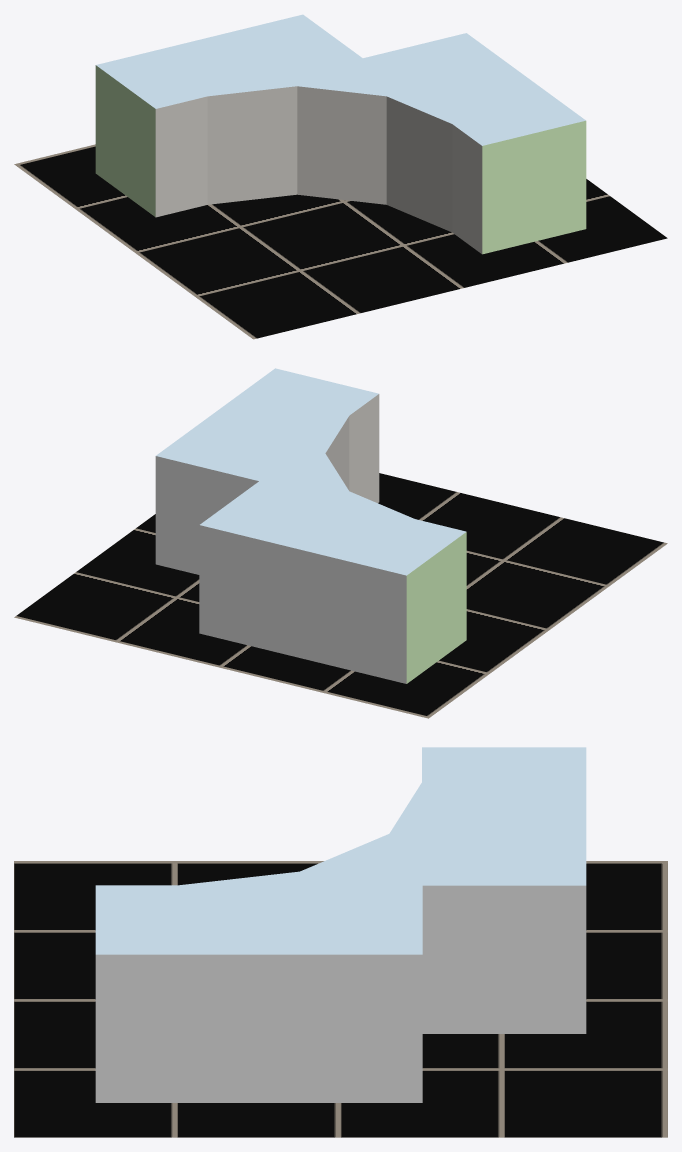
The model's file is Wall_Curve_Inner_3x3_Mid.glb.
3 views of the same model, one above another, from view 1: azimuth 30°, elevation 25°; view 2: azimuth 150°, elevation 25°; view 3: azimuth 270°, elevation 25° (orthographic). The views are drawn at different scales.
Parts seen in each view (by area): view 1: Wall_Curve_Inner_3x3_Mid, Floor; view 2: Wall_Curve_Inner_3x3_Mid, Floor; view 3: Wall_Curve_Inner_3x3_Mid, Floor.
Part boxes in pixels (x1,y1,x2,y2): Wall_Curve_Inner_3x3_Mid: (95, 14, 586, 254); Floor: (14, 144, 667, 339); Wall_Curve_Inner_3x3_Mid: (155, 368, 466, 683); Floor: (14, 473, 667, 718); Wall_Curve_Inner_3x3_Mid: (95, 747, 586, 1102); Floor: (14, 861, 667, 1137).
Size of the model in its own units: 400 by 100 by 400.
Materials: 5 (1 with a texture image).
